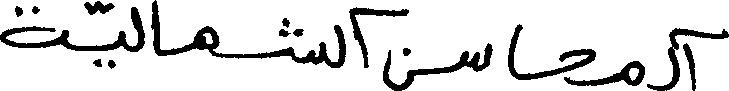X: (0, 1, 63, 52), (686, 24, 728, 90), (386, 4, 413, 90), (290, 24, 323, 69), (563, 44, 593, 90), (463, 38, 489, 76), (352, 2, 366, 72), (503, 20, 518, 84), (196, 21, 218, 61), (625, 56, 642, 90), (133, 2, 143, 56), (669, 23, 677, 90), (335, 20, 345, 72), (152, 0, 159, 60), (119, 26, 122, 51)
